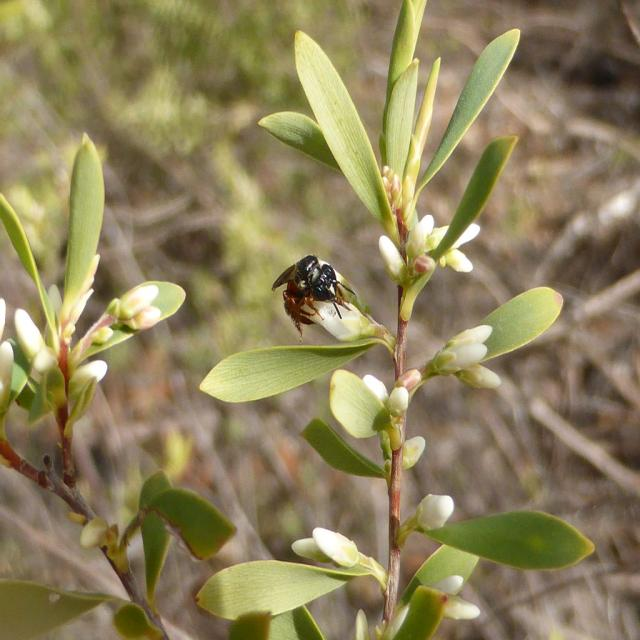Braunsapis: (269, 242, 369, 351)
